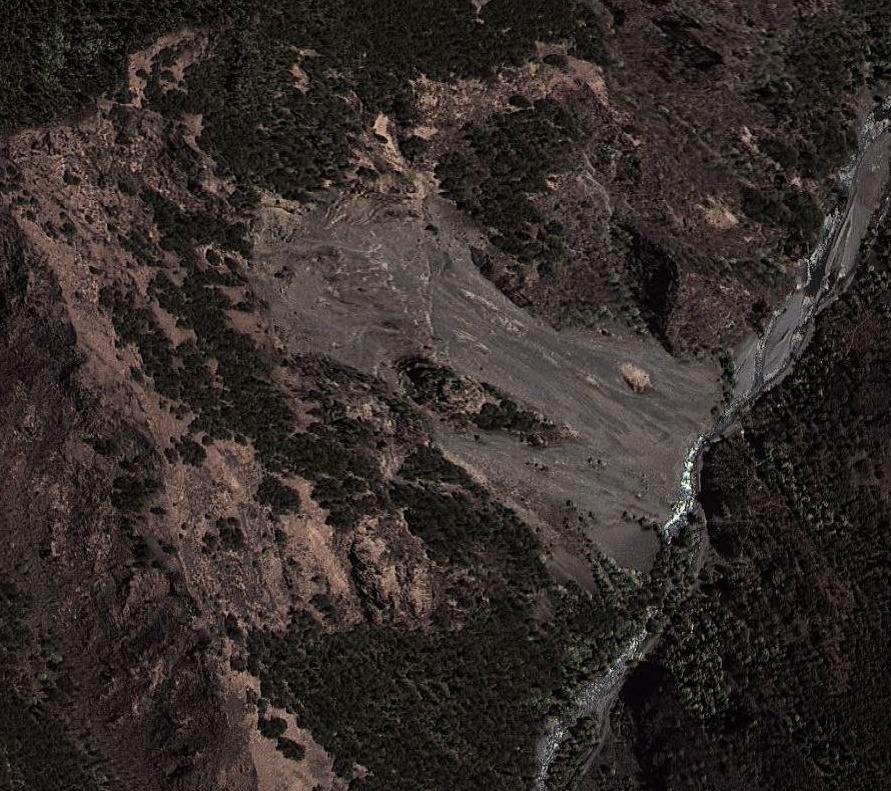slope: (241, 157, 722, 601)
